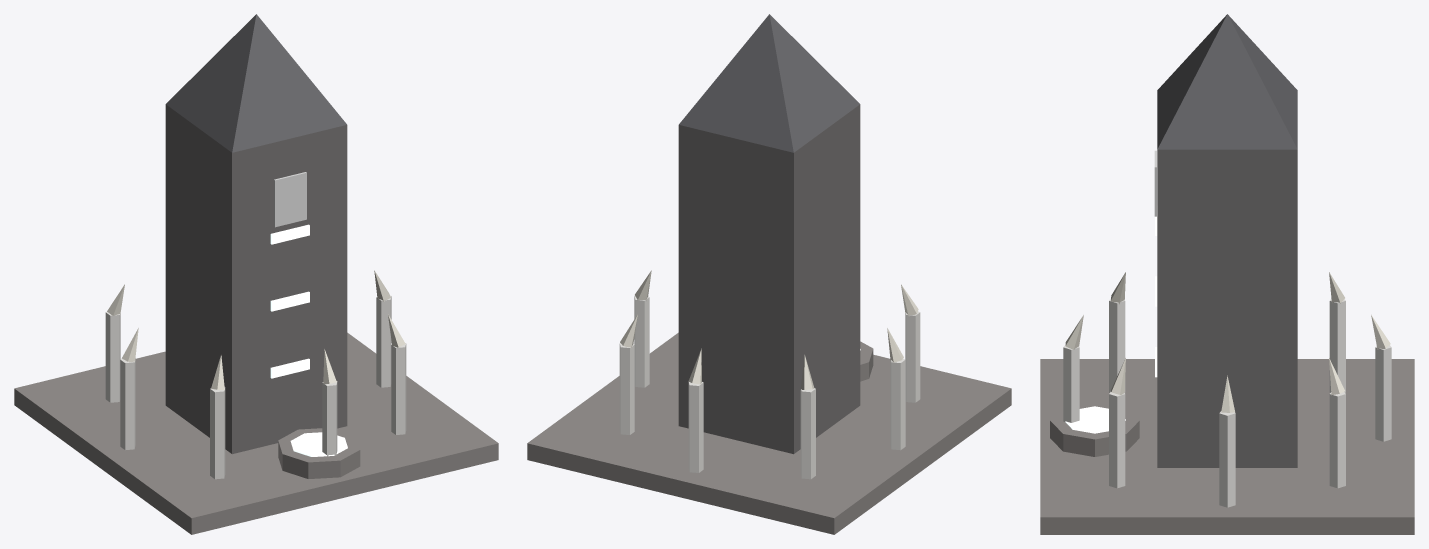
The picture shows the model from 3 angles, left to right: view 1: azimuth 30°, elevation 25°; view 2: azimuth 150°, elevation 25°; view 3: azimuth 270°, elevation 25°; orthographic projection. The views are drawn at different scales.
Visible parts, largest first — view 1: body; view 2: body; view 3: body.
Boxes of the visible parts, x1,y1,x2,y2 form: body: [14, 14, 498, 534]; body: [527, 14, 1011, 534]; body: [1040, 14, 1414, 534].
Size of the model in its own units: 9.6 by 12.5 by 9.6.
